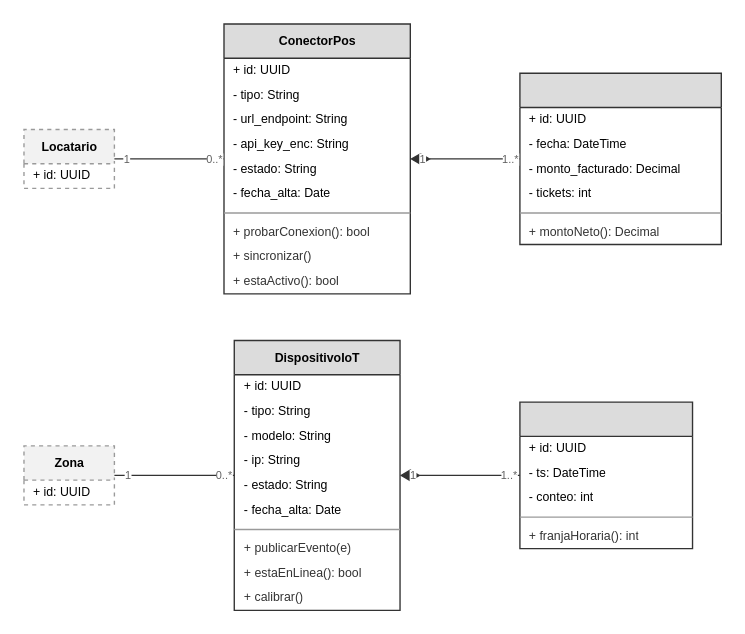
Image size: 745x634. Some labels were removed from this diagram. Each missing label, with the box of its shape:
EventoTrafico: (519, 401, 693, 549)
RegistroPos: (519, 72, 721, 245)
